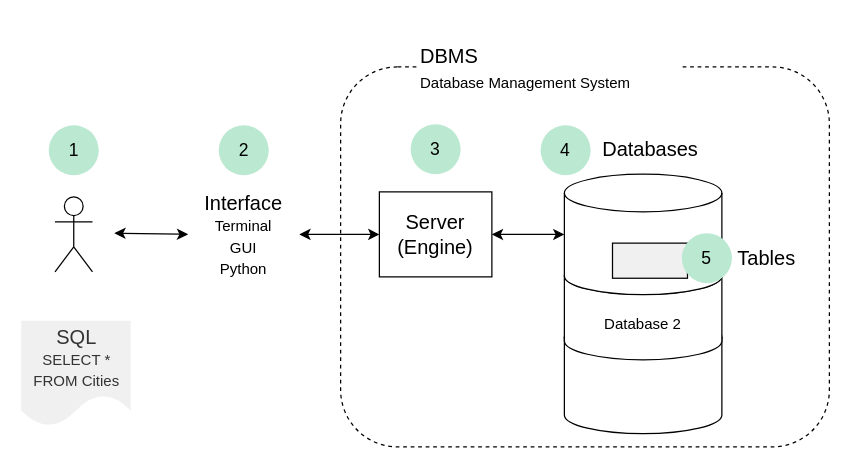
Image size: 851x469. Some labels were removed from this diagram. Each missing label, with the centre of its shape:
"Cities" goes at point (649, 260).
"Client" goes at point (73, 234).
"Database 1" goes at point (642, 234).
"Database 3" goes at point (642, 375).
